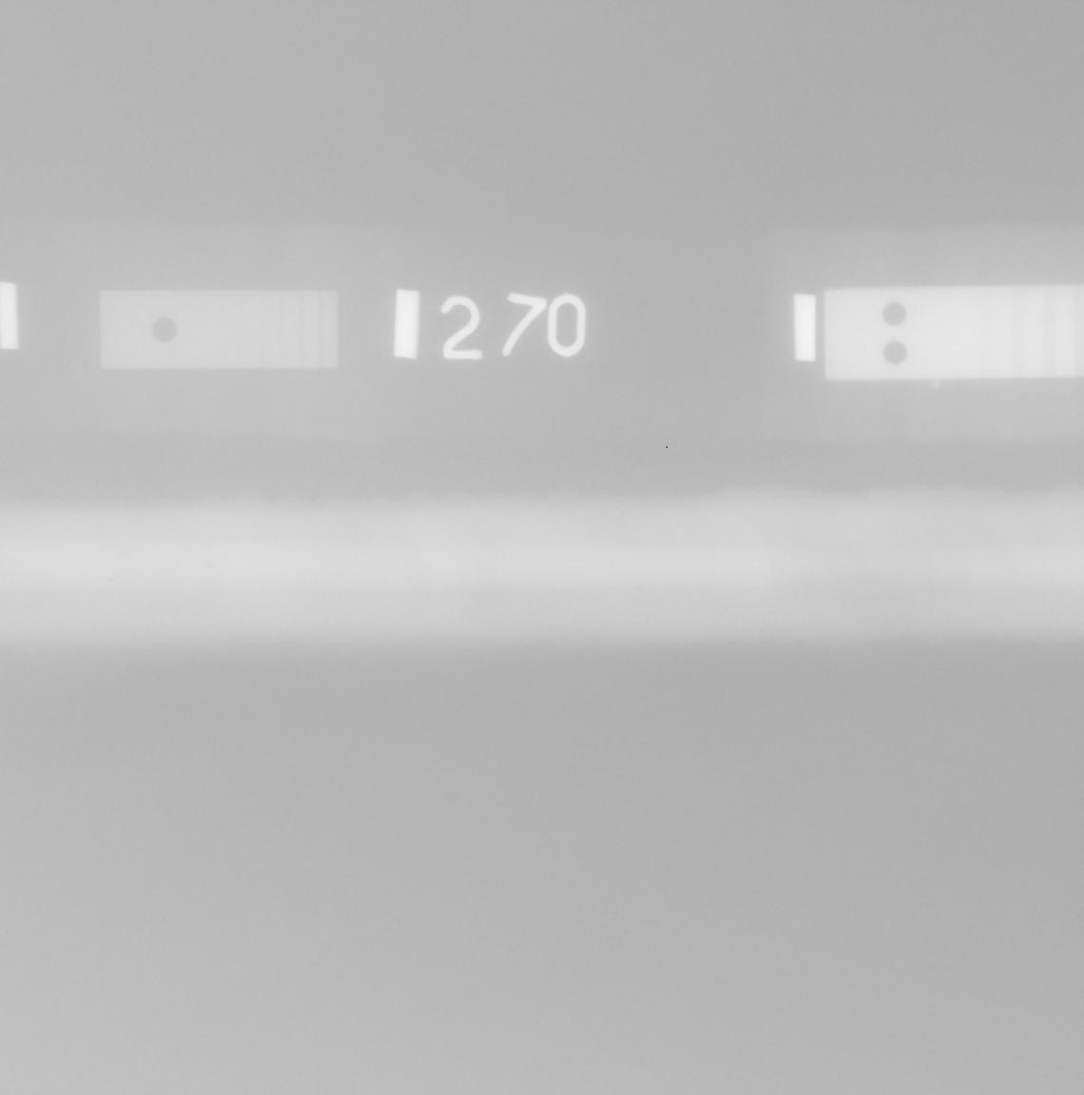Pore/Porosity: (108, 577, 115, 582), (207, 563, 212, 569)
Reference Standard 1: (99, 290, 338, 369)
